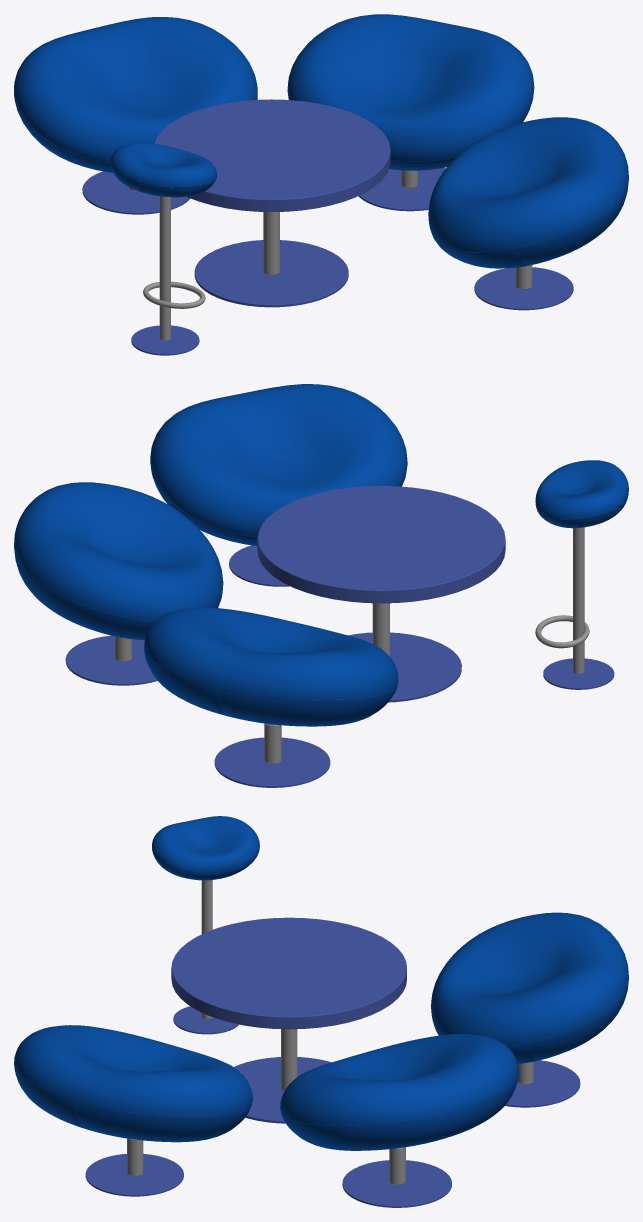
Rendered from chair .fbx.
The picture shows the model from 3 angles, top to bottom: view 1: azimuth 30°, elevation 25°; view 2: azimuth 150°, elevation 25°; view 3: azimuth 270°, elevation 25°; orthographic projection. The views are drawn at different scales.
Parts seen in each view (by area): view 1: objA_08.003, objA_04.003, objA_12.003, objC_02, objC_01, objB_01.003, objA_10.003, objB_03.003, objA_03.003, objA_06.003, objB_04.003, objC_03; view 2: objA_12.003, objA_08.003, objC_02, objA_04.003, objB_01.003, objA_03.003, objC_01, objA_06.003, objB_03.003, objB_04.003, objA_10.003, objC_03 (+1 smaller); view 3: objA_04.003, objC_02, objA_12.003, objA_08.003, objB_01.003, objA_06.003, objA_10.003, objC_01, objA_03.003, objB_04.003, objC_03, objB_03.003 (+2 smaller).
Part boxes in pixels (left/top/right/bottom): objA_08.003: left=287, top=14, right=534, bottom=170; objA_04.003: left=14, top=17, right=257, bottom=172; objA_12.003: left=428, top=117, right=628, bottom=268; objC_02: left=154, top=99, right=390, bottom=212; objC_01: left=194, top=240, right=348, bottom=307; objB_01.003: left=110, top=142, right=217, bottom=197; objA_10.003: left=474, top=267, right=573, bottom=310; objB_03.003: left=143, top=196, right=205, bottom=340; objA_03.003: left=82, top=171, right=190, bottom=214; objA_06.003: left=358, top=168, right=445, bottom=211; objB_04.003: left=131, top=325, right=199, bottom=355; objC_03: left=263, top=212, right=279, bottom=275; objA_12.003: left=150, top=384, right=407, bottom=545; objA_08.003: left=14, top=482, right=223, bottom=639; objC_02: left=257, top=486, right=505, bottom=603; objA_04.003: left=144, top=607, right=398, bottom=726; objB_01.003: left=535, top=460, right=628, bottom=528; objA_03.003: left=214, top=737, right=330, bottom=787; objC_01: left=348, top=632, right=461, bottom=702; objA_06.003: left=65, top=635, right=157, bottom=685; objB_03.003: left=535, top=527, right=589, bottom=674; objB_04.003: left=543, top=658, right=614, bottom=689; objA_10.003: left=229, top=545, right=289, bottom=586; objC_03: left=372, top=603, right=389, bottom=656; objA_04.003: left=431, top=912, right=628, bottom=1063; objC_02: left=171, top=917, right=406, bottom=1029; objA_12.003: left=14, top=1025, right=252, bottom=1142; objA_08.003: left=280, top=1033, right=518, bottom=1150; objB_01.003: left=152, top=816, right=259, bottom=880; objA_06.003: left=342, top=1160, right=451, bottom=1207; objA_10.003: left=85, top=1154, right=183, bottom=1196; objC_01: left=234, top=1057, right=331, bottom=1123; objA_03.003: left=505, top=1060, right=580, bottom=1107; objB_04.003: left=173, top=1006, right=238, bottom=1034; objC_03: left=281, top=1029, right=297, bottom=1090; objB_03.003: left=201, top=880, right=212, bottom=1019.
Bounding box in the file's own units: 200 × 74.52 × 222.
